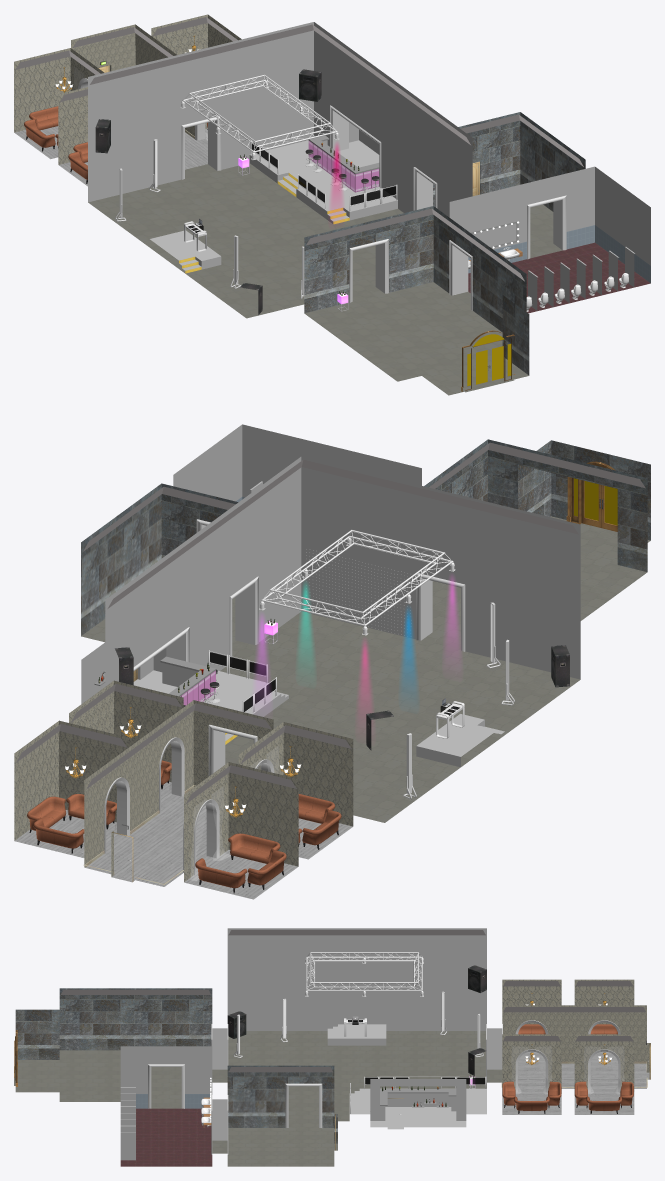
The model's file is club7.glb.
3 renders of one model, top to bottom at view 1: azimuth 30°, elevation 25°; view 2: azimuth 150°, elevation 25°; view 3: azimuth 270°, elevation 25°, orthographic. The views are drawn at different scales.
Parts seen in each view (by area): view 1: club7_club7_013_wall, club7_club7_047_concrete_floor, club7_club7_028_marble_wall, club7_club7_032_wallpaper, club7_club7_017_cornice, club7_club7_005_cornice1_decor_normals, club7_club7_048_tile_1, club7_club7_004_cornice1, club7_club7_051_ferm, club7_club7_046_tile_2, club7_club7_036_sofa_3, club7_club7_021_speaker (+8 smaller); view 2: club7_club7_013_wall, club7_club7_047_concrete_floor, club7_club7_032_wallpaper, club7_club7_028_marble_wall, club7_club7_017_cornice, club7_club7_033_wood_planks_clean, club7_club7_036_sofa_3, club7_club7_005_cornice1_decor_normals, club7_club7_004_cornice1, club7_club7_051_ferm, club7_club7_010_tule, club7_club7_021_speaker (+10 smaller); view 3: club7_club7_013_wall, club7_club7_047_concrete_floor, club7_club7_028_marble_wall, club7_club7_032_wallpaper, club7_club7_017_cornice, club7_club7_048_tile_1, club7_club7_033_wood_planks_clean, club7_club7_036_sofa_3, club7_club7_004_cornice1, club7_club7_005_cornice1_decor_normals, club7_club7_051_ferm, club7_club7_010_tule (+5 smaller).
Part boxes in pixels (x1,y1,x2,y2): club7_club7_013_wall: [88, 22, 650, 310]; club7_club7_047_concrete_floor: [88, 163, 562, 395]; club7_club7_028_marble_wall: [304, 112, 585, 375]; club7_club7_032_wallpaper: [14, 14, 241, 164]; club7_club7_017_cornice: [15, 17, 583, 281]; club7_club7_005_cornice1_decor_normals: [80, 81, 562, 295]; club7_club7_048_tile_1: [468, 242, 650, 313]; club7_club7_004_cornice1: [78, 78, 566, 310]; club7_club7_051_ferm: [182, 74, 337, 152]; club7_club7_046_tile_2: [468, 225, 650, 283]; club7_club7_036_sofa_3: [24, 106, 207, 183]; club7_club7_021_speaker: [95, 69, 321, 314]; club7_club7_013_wall: [81, 424, 580, 767]; club7_club7_047_concrete_floor: [81, 516, 650, 822]; club7_club7_032_wallpaper: [14, 680, 353, 881]; club7_club7_028_marble_wall: [81, 439, 650, 635]; club7_club7_017_cornice: [16, 442, 645, 803]; club7_club7_033_wood_planks_clean: [14, 781, 352, 899]; club7_club7_036_sofa_3: [27, 760, 341, 893]; club7_club7_005_cornice1_decor_normals: [116, 524, 432, 858]; club7_club7_004_cornice1: [104, 519, 465, 875]; club7_club7_051_ferm: [261, 529, 453, 626]; club7_club7_010_tule: [82, 746, 278, 880]; club7_club7_021_speaker: [115, 645, 569, 750]; club7_club7_013_wall: [120, 928, 486, 1160]; club7_club7_047_concrete_floor: [14, 1031, 502, 1166]; club7_club7_028_marble_wall: [15, 988, 337, 1143]; club7_club7_032_wallpaper: [502, 979, 650, 1091]; club7_club7_017_cornice: [61, 930, 645, 1072]; club7_club7_048_tile_1: [120, 1108, 212, 1166]; club7_club7_033_wood_planks_clean: [502, 1051, 650, 1114]; club7_club7_036_sofa_3: [502, 1024, 633, 1113]; club7_club7_004_cornice1: [148, 1020, 620, 1154]; club7_club7_005_cornice1_decor_normals: [212, 1028, 502, 1140]; club7_club7_051_ferm: [306, 952, 422, 990]; club7_club7_010_tule: [511, 1046, 624, 1093].
Bounding box in the file's own units: 21 × 7.45 × 41.75.
Materials: 56 (37 with a texture image).
